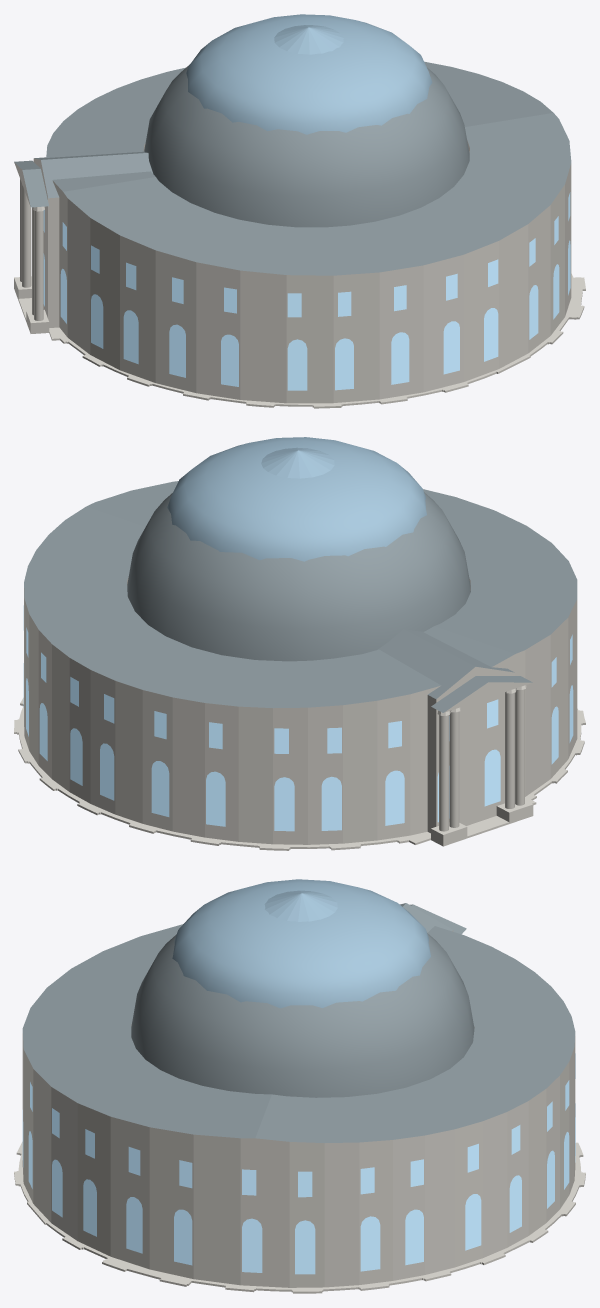
File: detail.glb
3 renders of one model, top to bottom at view 1: azimuth 30°, elevation 25°; view 2: azimuth 150°, elevation 25°; view 3: azimuth 270°, elevation 25°, orthographic. The views are drawn at different scales.
Visible parts, largest first — view 1: roof, stone, metal, window; view 2: roof, stone, metal, window; view 3: roof, stone, metal, window.
Part boxes in pixels (x1,y1,x2,y2): roof: [14, 61, 571, 275]; stone: [14, 140, 585, 408]; metal: [186, 14, 432, 134]; window: [43, 192, 570, 390]; roof: [24, 481, 577, 712]; stone: [14, 577, 585, 850]; metal: [167, 437, 426, 561]; window: [23, 605, 573, 831]; roof: [22, 903, 575, 1143]; stone: [14, 930, 585, 1293]; metal: [172, 879, 430, 1008]; window: [22, 1053, 575, 1274].
Size of the model in its own units: 69.27 by 36.3 by 67.18.
